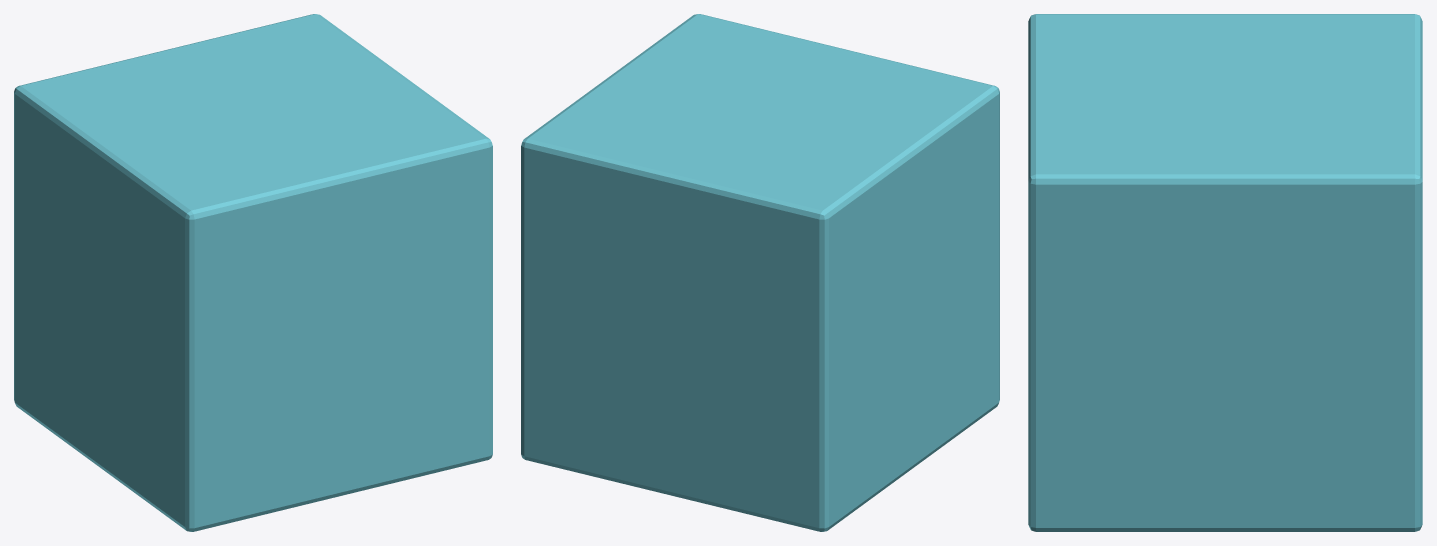
Rendered from pbs.glb.
The picture shows the model from 3 angles, left to right: view 1: azimuth 30°, elevation 25°; view 2: azimuth 150°, elevation 25°; view 3: azimuth 270°, elevation 25°; orthographic projection. The views are drawn at different scales.
Visible parts, largest first — view 1: pbs; view 2: pbs; view 3: pbs.
Part boxes in pixels (x1,y1,x2,y2): pbs: (14, 14, 492, 531); pbs: (521, 14, 999, 531); pbs: (1028, 14, 1422, 531).
Bounding box in the file's own units: 12.7 × 12.7 × 12.7.
